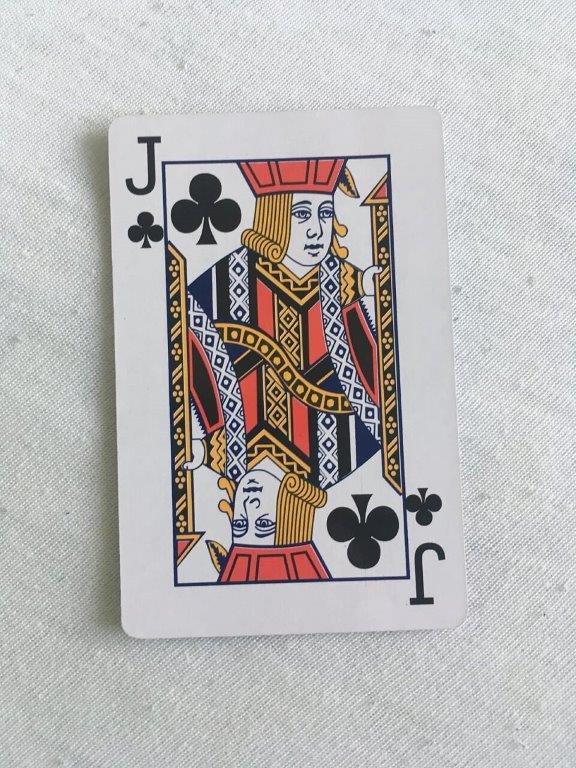JC: (104, 104, 471, 643)
